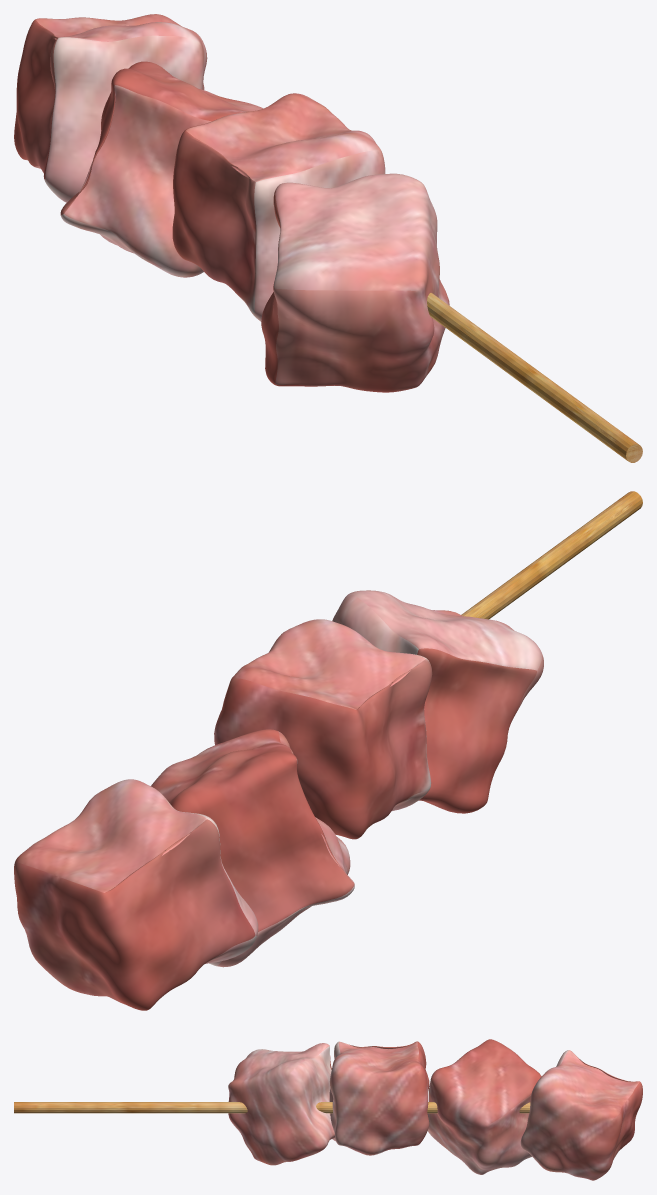
File: SatayUncooked.fbx
The picture shows the model from 3 angles, top to bottom: view 1: azimuth 30°, elevation 25°; view 2: azimuth 150°, elevation 25°; view 3: azimuth 270°, elevation 25°; orthographic projection. The views are drawn at different scales.
Parts seen in each view (by area): view 1: SatayUncooked, Skewer; view 2: SatayUncooked, Skewer; view 3: SatayUncooked, Skewer.
Boxes of the visible parts, left/top/right/bottom form: SatayUncooked: left=14, top=14, right=449, bottom=392; Skewer: left=427, top=293, right=642, bottom=462; SatayUncooked: left=14, top=590, right=543, bottom=1010; Skewer: left=461, top=491, right=642, bottom=619; SatayUncooked: left=228, top=1039, right=642, bottom=1180; Skewer: left=14, top=1102, right=530, bottom=1113.
Size of the model in its own units: 348 by 312 by 1490.
